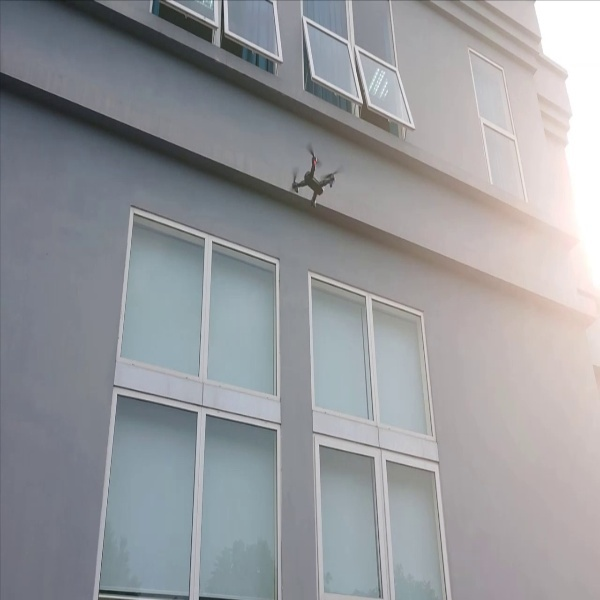drone: (274, 142, 348, 215)
